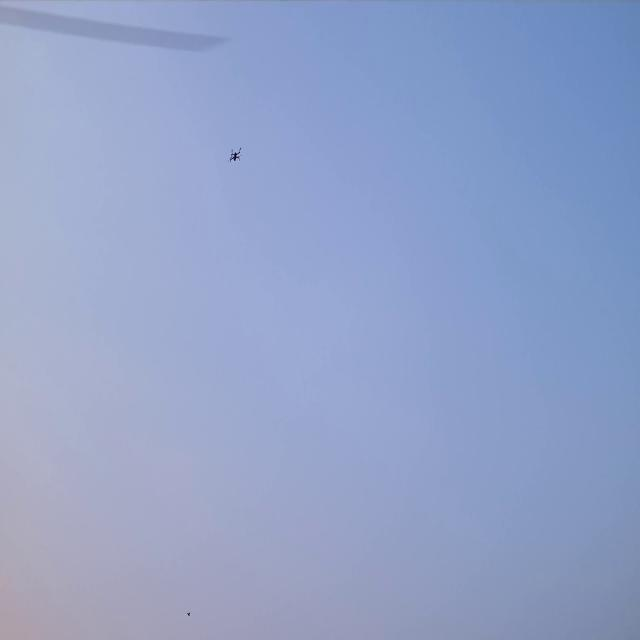UAV: (227, 146, 243, 166)
